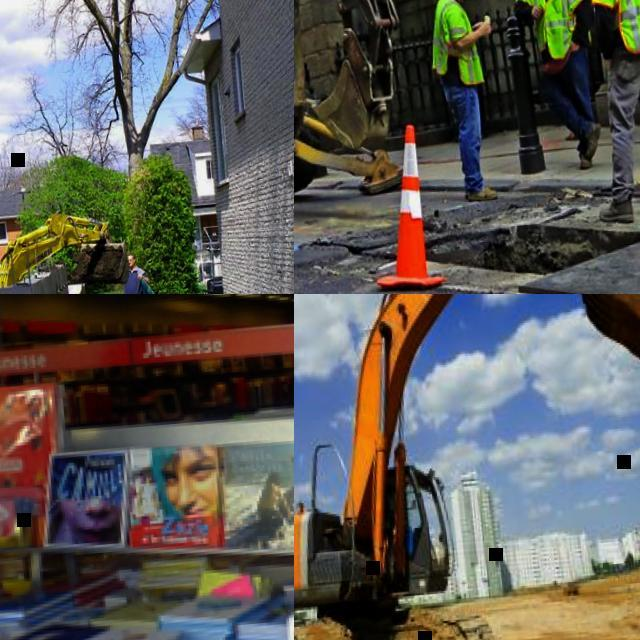vest: (427, 0, 485, 86), (531, 0, 581, 60), (605, 0, 640, 54)
